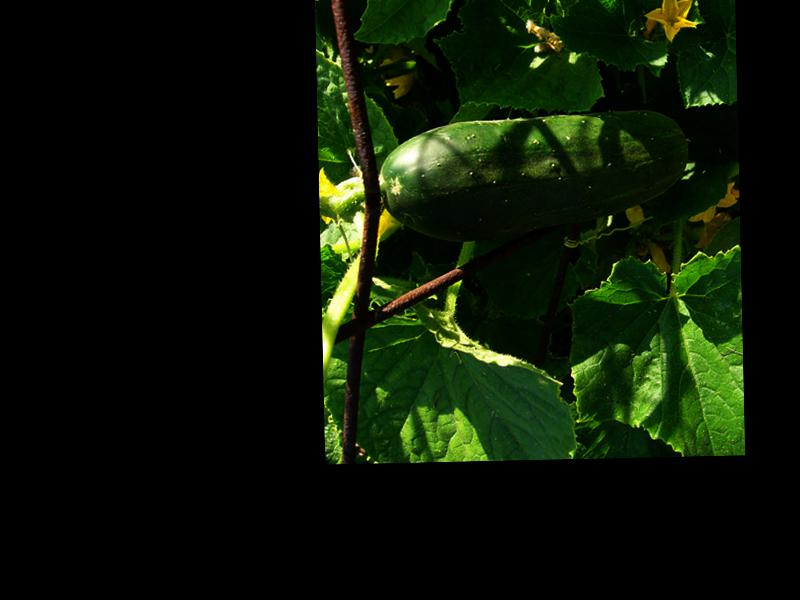Cucumber: (378, 108, 691, 246)
